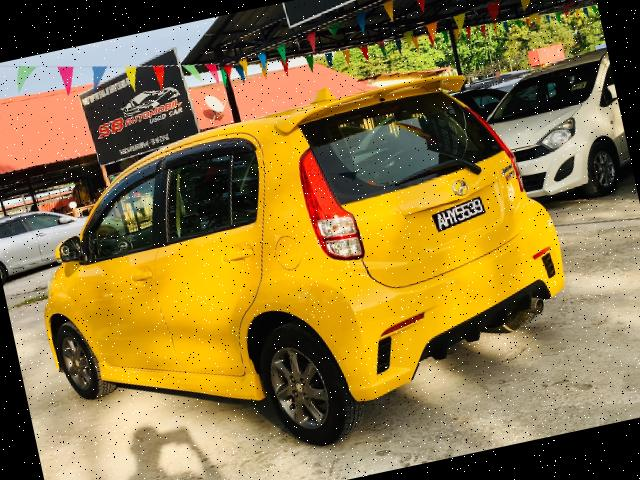License_Plate: (419, 192, 499, 236)
car: (1, 57, 594, 480)
